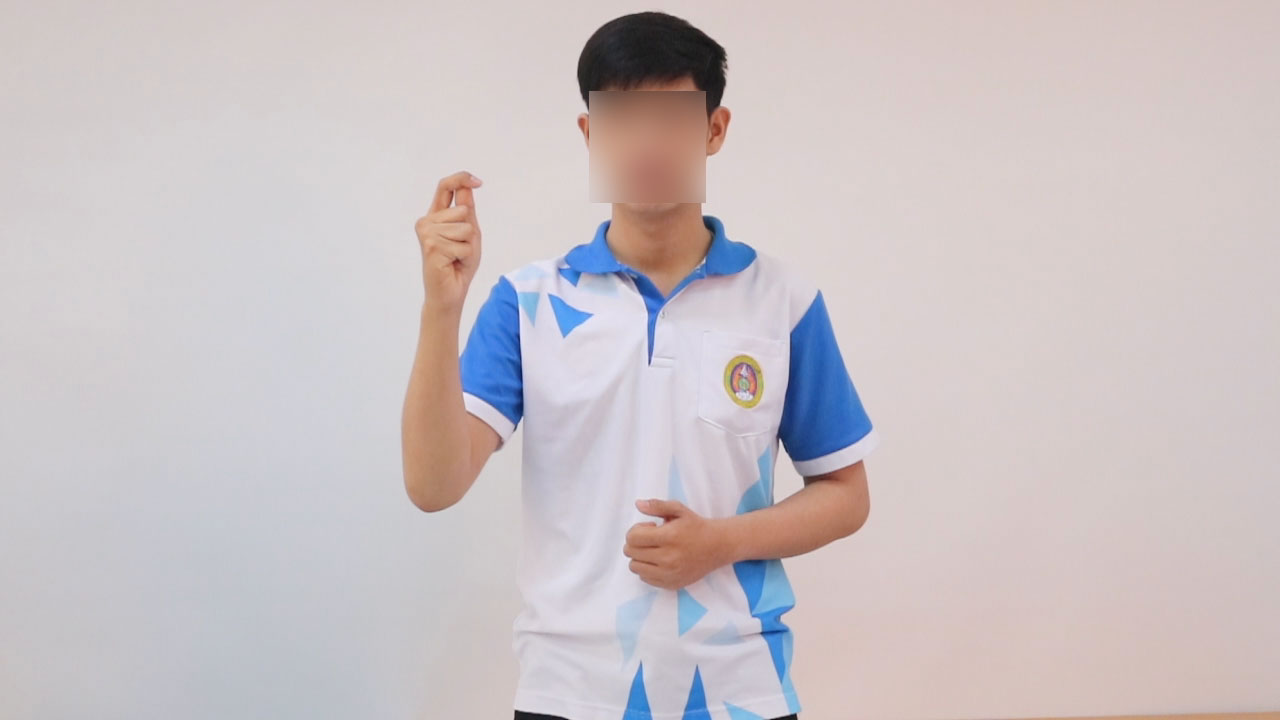or: (411, 168, 490, 318)
